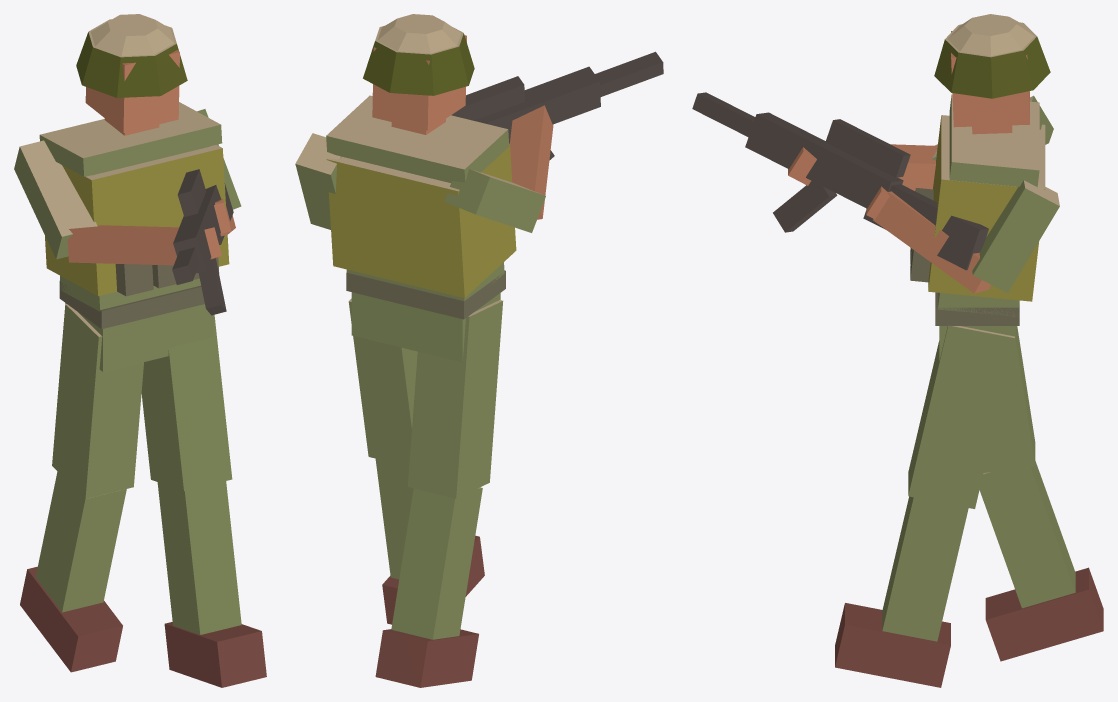
File: SM_SoldadoArmado_v2_G36E_Apuntando_LOD1.fbx
3 views of the same model, side by side, from view 1: azimuth 30°, elevation 25°; view 2: azimuth 150°, elevation 25°; view 3: azimuth 270°, elevation 25° (orthographic).
Parts seen in each view (by area): view 1: SM_bloques.soldado_armado_v2_LOD1; view 2: SM_bloques.soldado_armado_v2_LOD1; view 3: SM_bloques.soldado_armado_v2_LOD1.
Boxes of the visible parts, bbox=[...] form: SM_bloques.soldado_armado_v2_LOD1: bbox=[14, 14, 266, 687]; SM_bloques.soldado_armado_v2_LOD1: bbox=[295, 14, 663, 687]; SM_bloques.soldado_armado_v2_LOD1: bbox=[692, 14, 1103, 687].
Bounding box in the file's own units: 0.5846 × 1.77 × 1.02.
